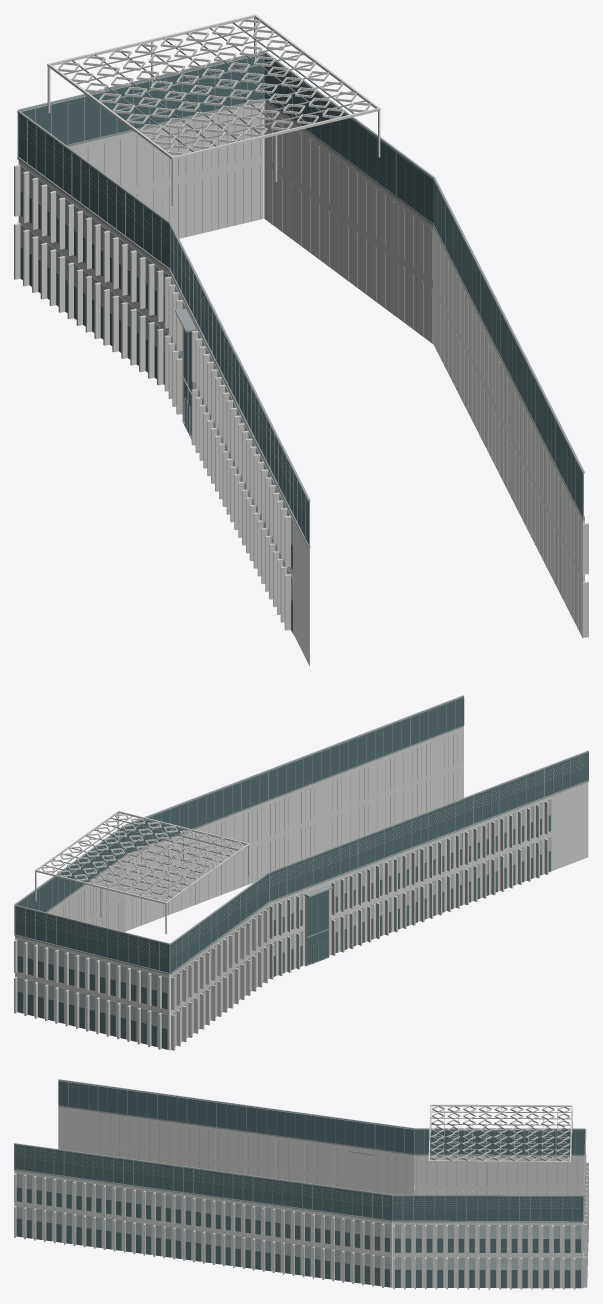
The model's file is nrc-2620-speakman.glb.
3 renders of one model, top to bottom at view 1: azimuth 30°, elevation 25°; view 2: azimuth 150°, elevation 25°; view 3: azimuth 270°, elevation 25°, orthographic. The views are drawn at different scales.
Parts seen in each view (by area): view 1: NRC precast, NRC glass, NRC metal, NRC solera, NRC frit; view 2: NRC precast, NRC glass, NRC metal, NRC solera, NRC frit; view 3: NRC precast, NRC glass, NRC metal, NRC solera, NRC frit.
Boxes of the visible parts, x1=… form: NRC precast: x1=14, y1=14, x2=588, y2=666; NRC glass: x1=18, y1=54, x2=582, y2=633; NRC metal: x1=17, y1=22, x2=584, y2=634; NRC solera: x1=20, y1=165, x2=293, y2=600; NRC frit: x1=19, y1=118, x2=307, y2=519; NRC precast: x1=14, y1=727, x2=588, y2=1050; NRC glass: x1=15, y1=697, x2=587, y2=1049; NRC metal: x1=14, y1=695, x2=588, y2=1049; NRC solera: x1=17, y1=799, x2=550, y2=1028; NRC frit: x1=16, y1=757, x2=583, y2=957; NRC precast: x1=14, y1=1104, x2=588, y2=1289; NRC glass: x1=14, y1=1081, x2=584, y2=1288; NRC metal: x1=14, y1=1079, x2=586, y2=1287; NRC solera: x1=16, y1=1173, x2=583, y2=1269; NRC frit: x1=15, y1=1147, x2=584, y2=1208.
Bounding box in the file's own units: 42.56 × 20.55 × 87.94.
